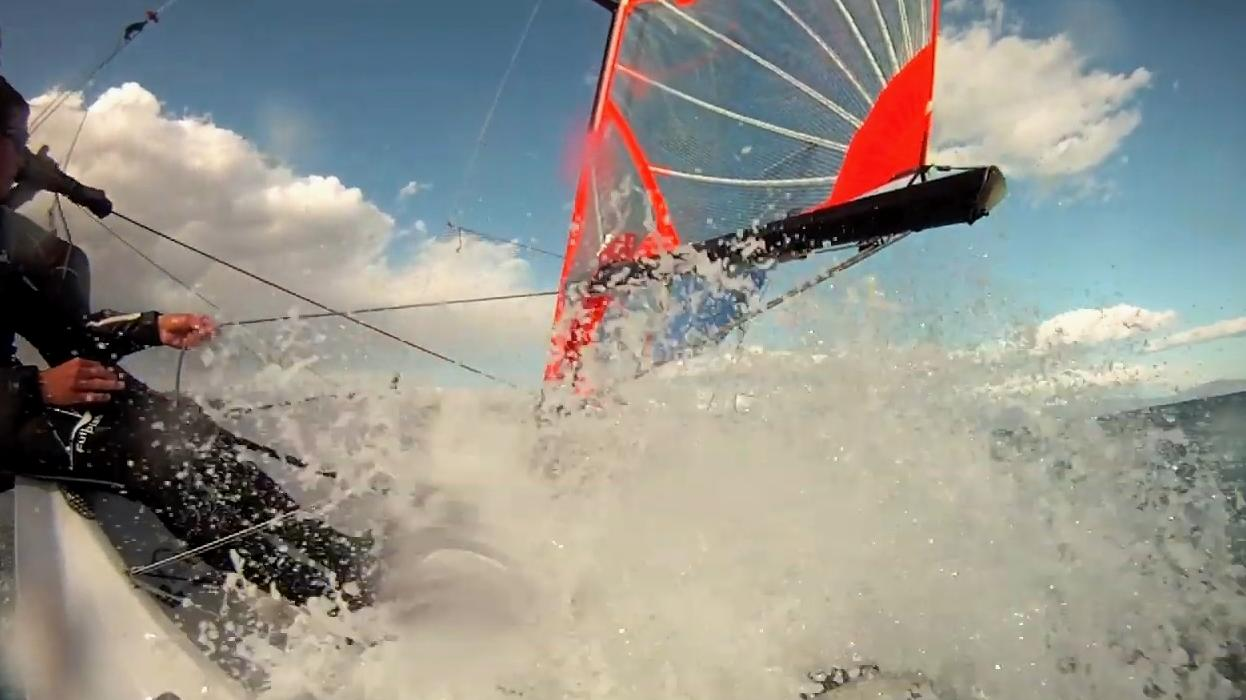boat: (0, 0, 1012, 700)
person: (0, 79, 359, 609), (0, 75, 113, 219)
sea: (421, 391, 1246, 700), (0, 491, 17, 629)
sky: (616, 0, 1246, 421), (0, 0, 610, 393)
